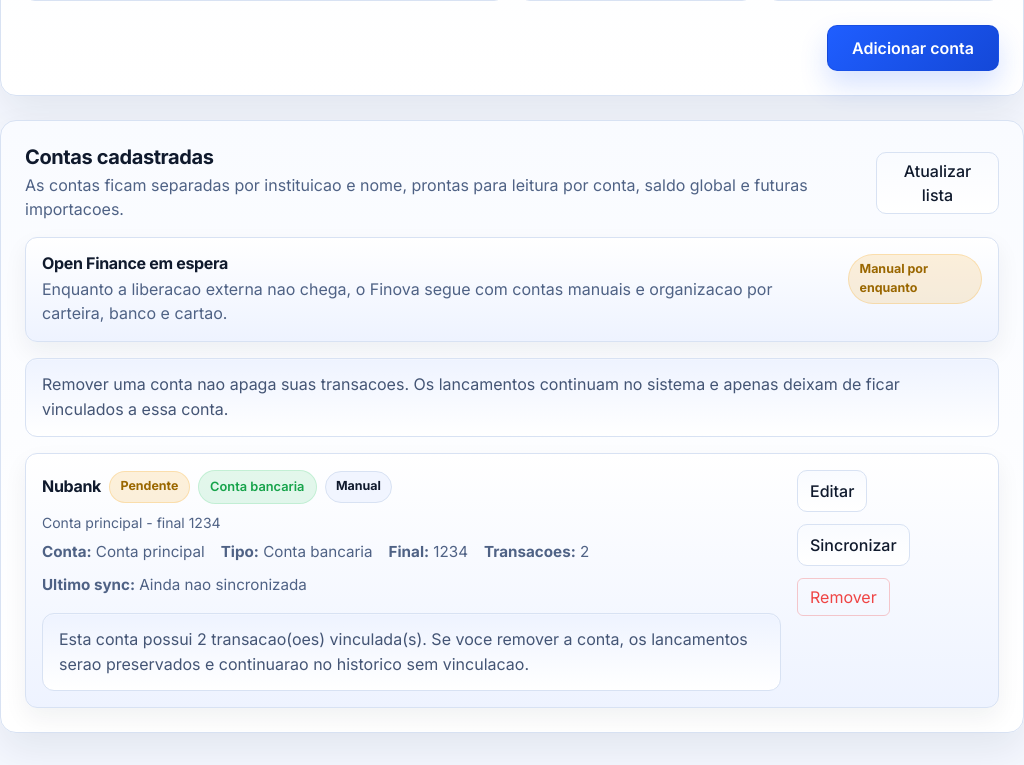
Test: FinancialAccounts page › synchronizes an account and refreshes transactions
This screenshot has width=1024, height=765.
(page scrolled)
Expected: the heading "Nubank" is shown, [42,477,101,496]
Click the button "Sincronizar": (853, 545) [797,524,910,566]
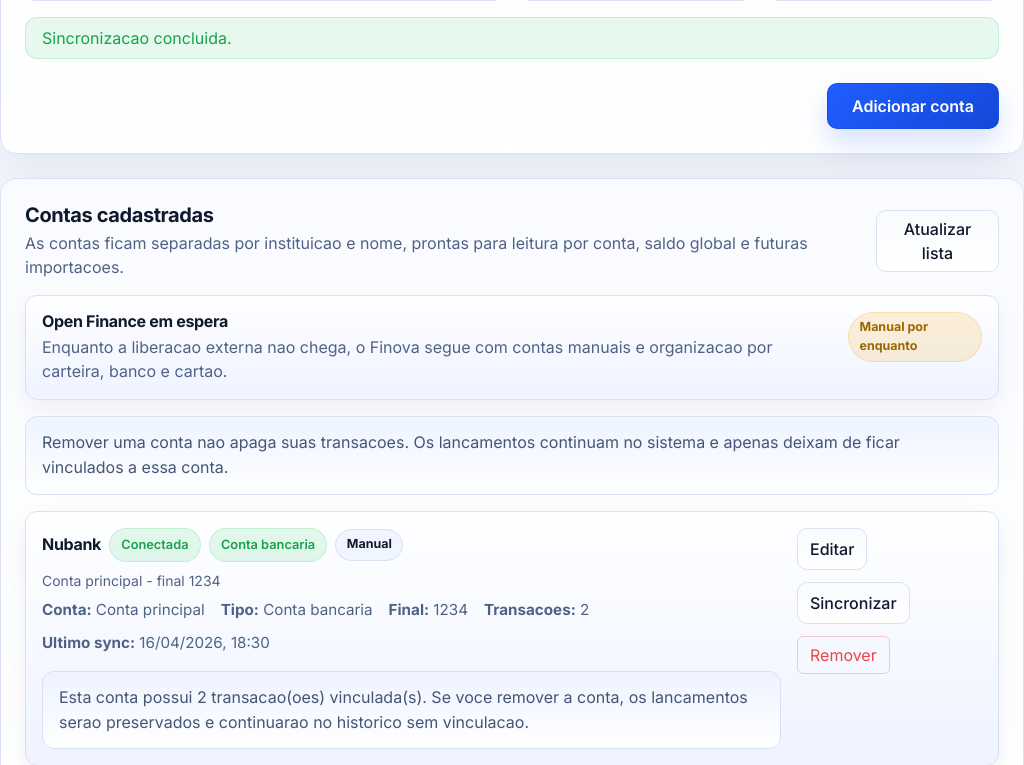
Expected: the text "Conectada" is shown, [109,528,201,562]
